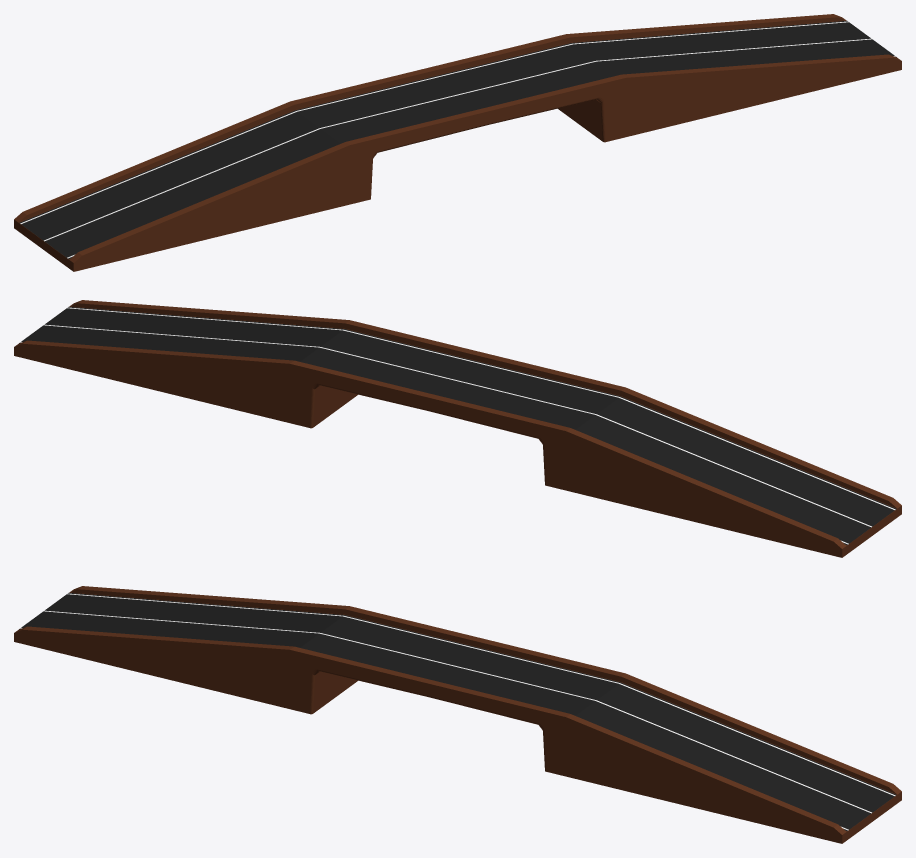
The model's file is bridge.fbx.
3 views of the same model, one above another, from view 1: azimuth 30°, elevation 25°; view 2: azimuth 150°, elevation 25°; view 3: azimuth 330°, elevation 25° (orthographic).
Visible parts, largest first — view 1: bridge_base_01, bridge_street_01; view 2: bridge_base_01, bridge_street_01; view 3: bridge_base_01, bridge_street_01.
Part boxes in pixels (x1=…): bridge_base_01: x1=14, y1=14, x2=901, y2=271; bridge_street_01: x1=19, y1=21, x2=896, y2=258; bridge_base_01: x1=14, y1=300, x2=901, y2=557; bridge_street_01: x1=19, y1=307, x2=896, y2=544; bridge_base_01: x1=14, y1=586, x2=901, y2=843; bridge_street_01: x1=19, y1=593, x2=896, y2=830.
Size of the model in its own units: 9600 by 658 by 1200.
